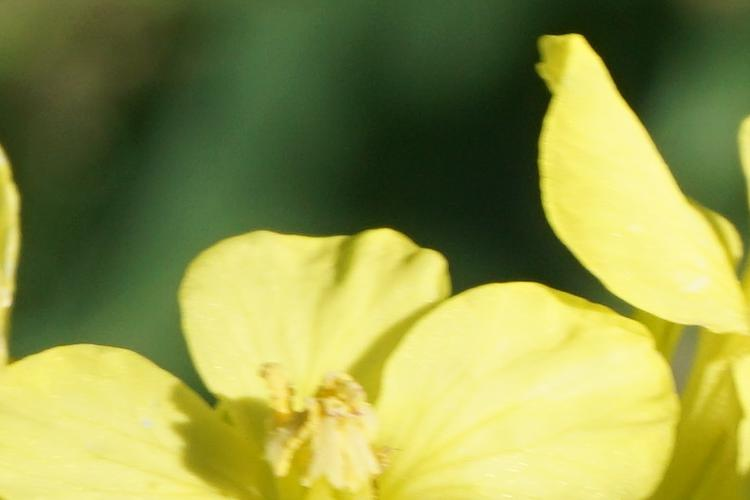yellow: (39, 228, 680, 500), (494, 37, 749, 346)
